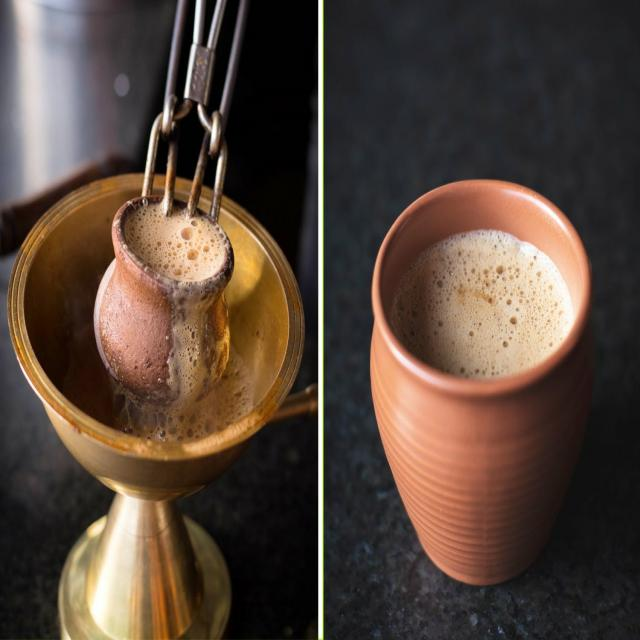Chai: (108, 182, 229, 426), (394, 229, 573, 382)
